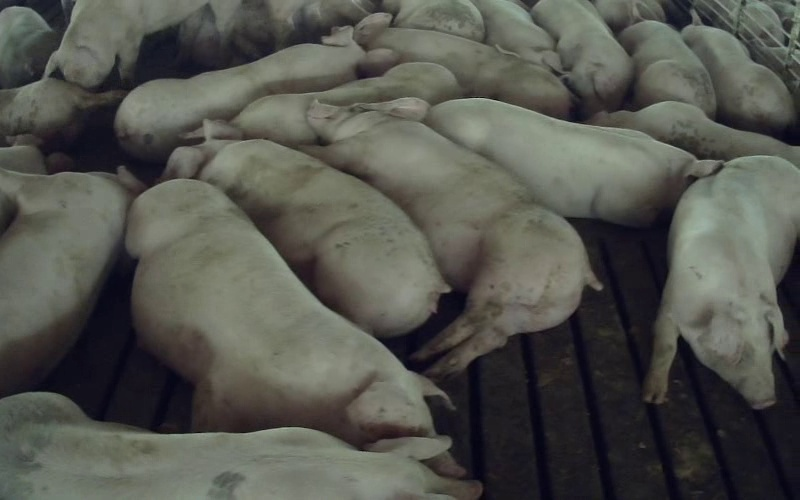pig: (126, 179, 448, 446), (306, 98, 599, 378), (164, 121, 448, 335), (644, 156, 799, 408), (115, 27, 397, 161), (425, 99, 720, 226), (0, 167, 144, 395), (354, 13, 571, 118), (232, 62, 460, 146), (44, 0, 240, 87), (681, 10, 795, 136), (588, 101, 799, 167), (531, 0, 633, 117), (618, 10, 715, 118), (0, 78, 124, 147), (472, 0, 561, 73), (382, 0, 484, 41)
